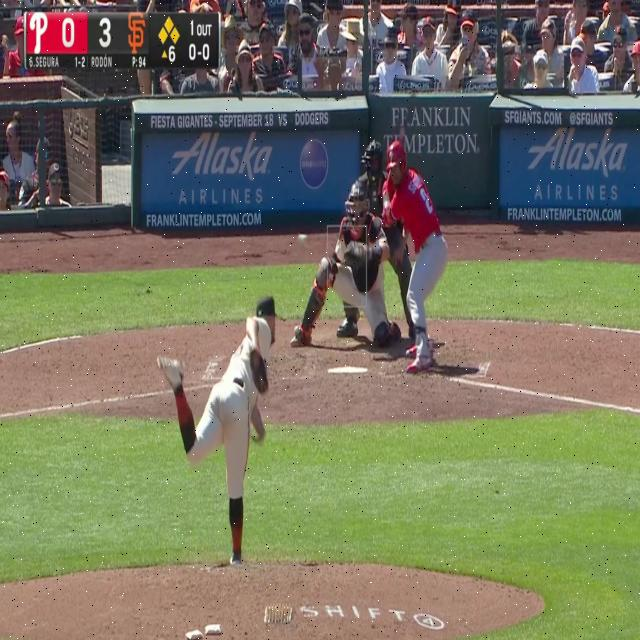baseball: (299, 234, 307, 245)
